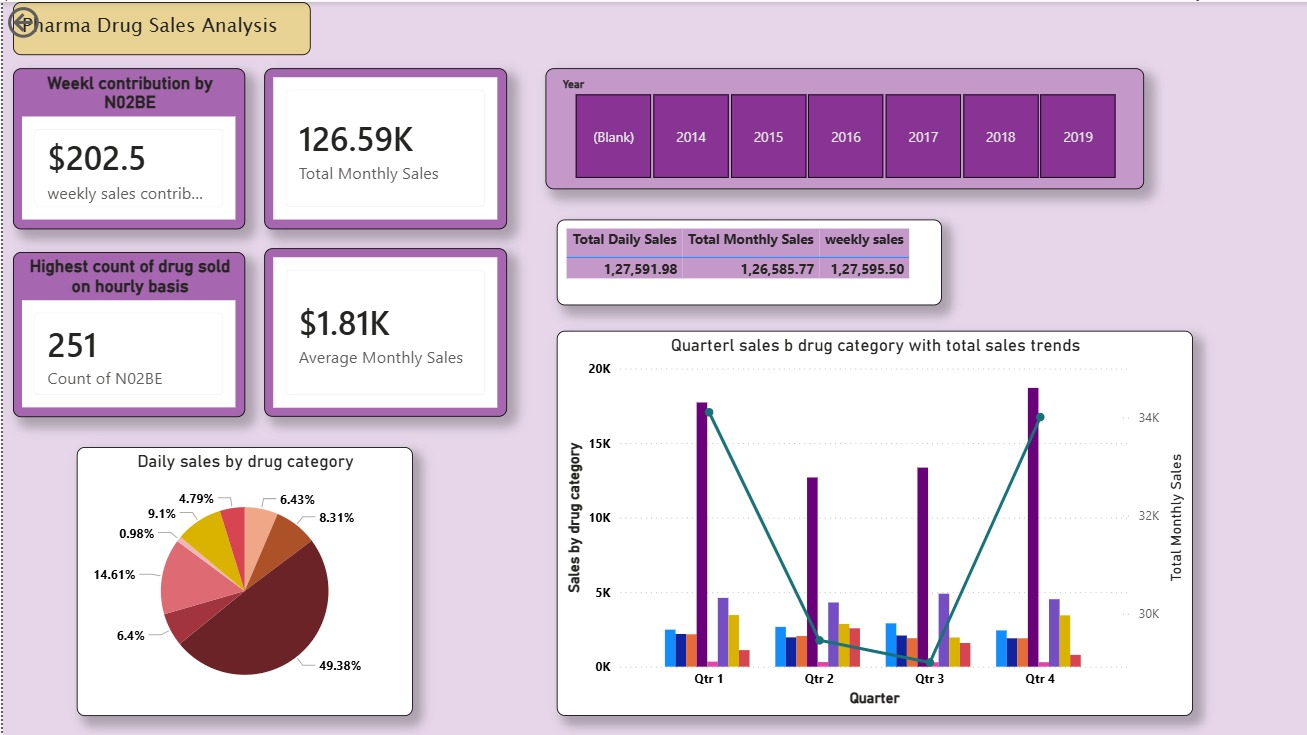

This screenshot's page, from the dashboard's own definition file:
{"tool":"powerbi","page":{"name":"Page 2","canvas":[1280,720],"ordinal":1},"visuals":[{"type":"textbox","box":[9.6,0,290.9,52.1],"z":0},{"type":"pieChart","title":"Daily sales by drug category","fields":{"Y":["Sum(Sales Daily.M01AE)","Sum(Sales Daily.M01AB)","Sum(Sales Daily.N02BE)","Sum(Sales Daily.N02BA)","Sum(Sales Daily.N05B)","Sum(Sales Daily.N05C)","Sum(Sales Daily.R03)","Sum(Sales Daily.R06)"]},"box":[72.1,435.3,328.9,262.9],"z":1000},{"type":"lineClusteredColumnComboChart","title":"Quarterl sales b drug category with total sales trends","fields":{"Category":["Sales Monthly.Date.Variation.Date Hierarchy.Quarter"],"Y":["Sum(Sales Monthly.M01AB)","Sum(Sales Monthly.M01AE)","Sum(Sales Monthly.N02BA)","Sum(Sales Monthly.N02BE)","Sum(Sales Monthly.N05C)","Sum(Sales Monthly.N05B)","Sum(Sales Monthly.R03)","Sum(Sales Monthly.R06)"],"Y2":["Sales Monthly.Total Monthly Sales"]},"box":[541.7,321.6,622.4,376.6],"z":2000},{"type":"cardVisual","fields":{"Data":["Sales Monthly.Total Monthly Sales"]},"box":[255.6,64.8,237.2,157.7],"z":3000},{"type":"cardVisual","title":"Weekl contribution by N02BE","fields":{"Data":["Sales Weekly.weekly sales contribution by N02BE"]},"box":[9.8,64.8,227.4,157.7],"z":4000},{"type":"cardVisual","title":"Highest count of drug sold on hourly basis","fields":{"Data":["Count(Sales Hourly.N02BE)"]},"box":[9.8,244.6,227.4,161.4],"z":5000},{"type":"cardVisual","fields":{"Data":["Sales Monthly.Average Monthly Sales"]},"box":[255.6,240.9,237.2,165.1],"z":6000},{"type":"actionButton","box":[0,0,100,40],"z":7000},{"type":"tableEx","fields":{"Values":["Sales Daily.Total Daily Sales","Sales Monthly.Total Monthly Sales","Sales Weekly.weekly sales"]},"box":[541.7,212.8,376.6,84.4],"z":8000},{"type":"slicer","fields":{"Values":["Sales Monthly.Date.Variation.Date Hierarchy.Year"]},"box":[530.7,64.8,585.7,118.6],"z":9000}]}

Visuals, with their boxes in screenshot pixels (x1, y1, x2, y2), scaled from the page's 1280x720 canvas onto the 1307x735 screenshot:
textbox: <box>10,0,307,53</box>
"Daily sales by drug category" pieChart: <box>74,444,409,713</box>
"Quarterl sales b drug category with total sales trends" lineClusteredColumnComboChart: <box>553,328,1189,713</box>
cardVisual - Sales Monthly.Total Monthly Sales: <box>261,66,503,227</box>
"Weekl contribution by N02BE" cardVisual: <box>10,66,242,227</box>
"Highest count of drug sold on hourly basis" cardVisual: <box>10,250,242,414</box>
cardVisual - Sales Monthly.Average Monthly Sales: <box>261,246,503,414</box>
actionButton: <box>0,0,102,41</box>
tableEx - Sales Daily.Total Daily Sales x Sales Monthly.Total Monthly Sales: <box>553,217,938,303</box>
slicer - Sales Monthly.Date.Variation.Date Hierarchy.Year: <box>542,66,1140,187</box>
